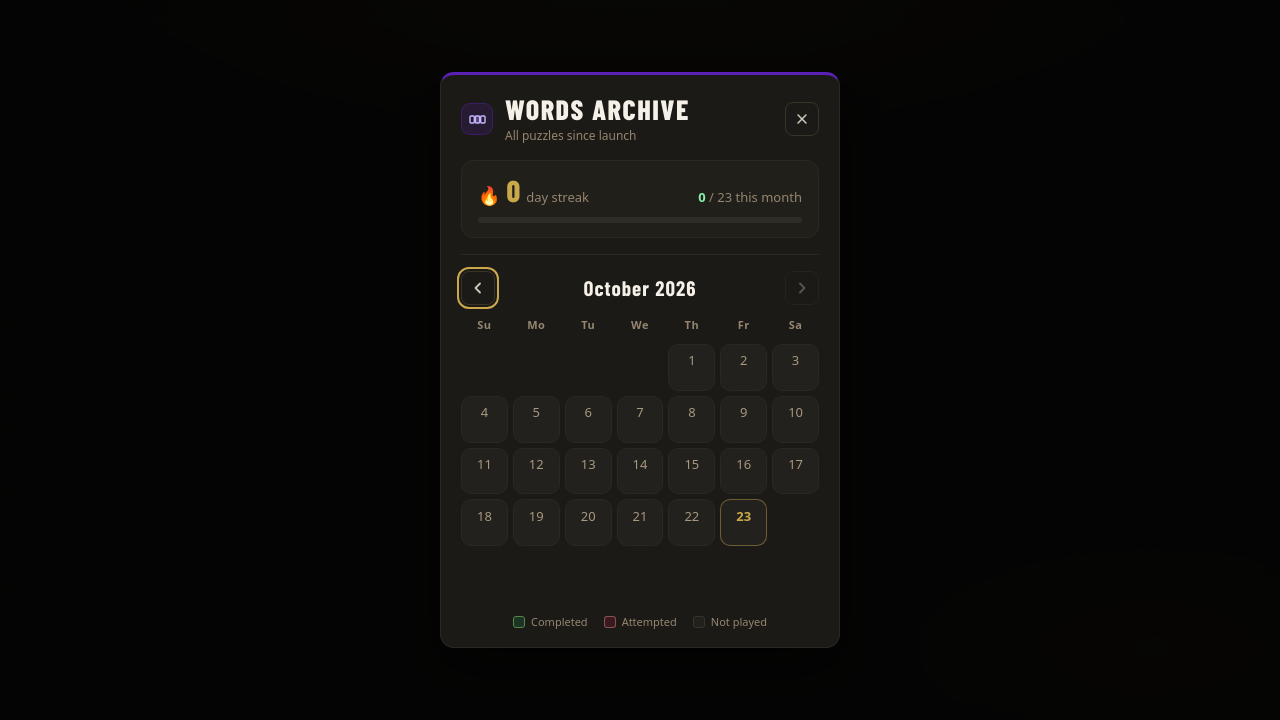
Test case: Archive calendar › leaves focus on the arrow that was pressed while it stays enabled
Click the button named "Previous month".
click(478, 288)  # box top-left (461, 271), bottom-right (495, 305)
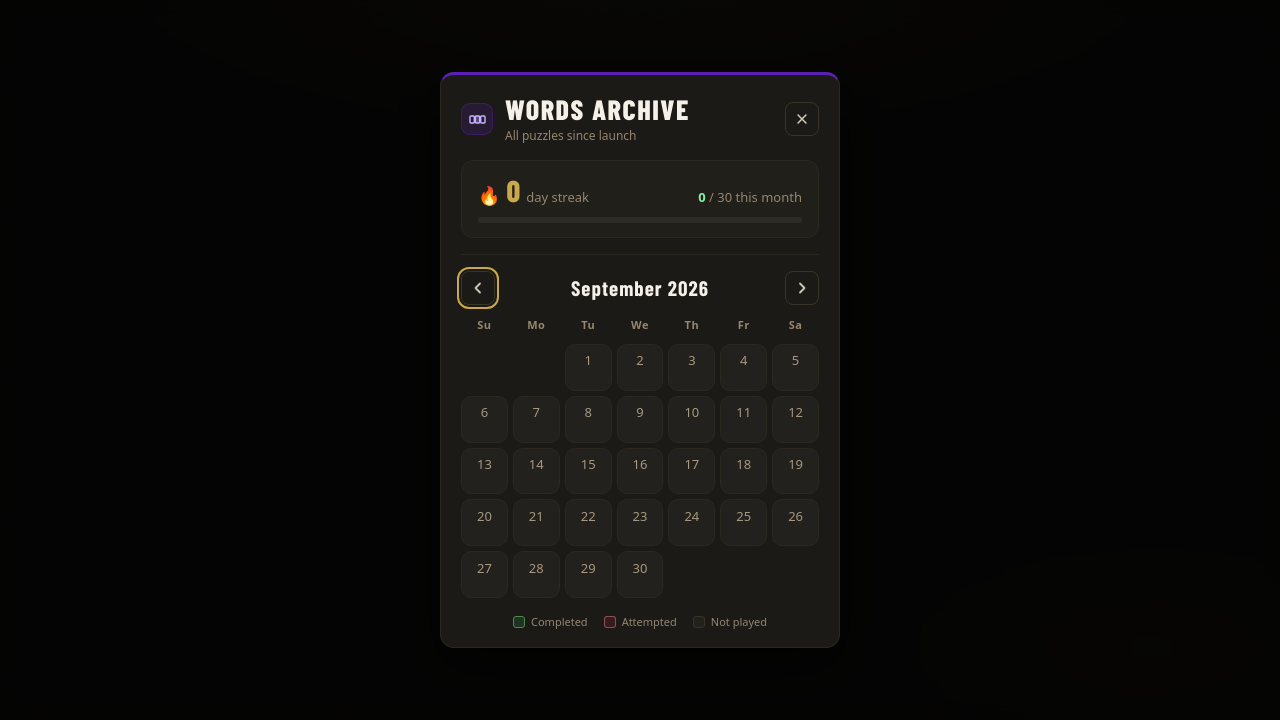
Result: the text with class "ar-month" reads "September 2026" at top-left (571, 275), bottom-right (709, 300)
Click the button named "Previous month".
click(478, 288)  # box top-left (461, 271), bottom-right (495, 305)
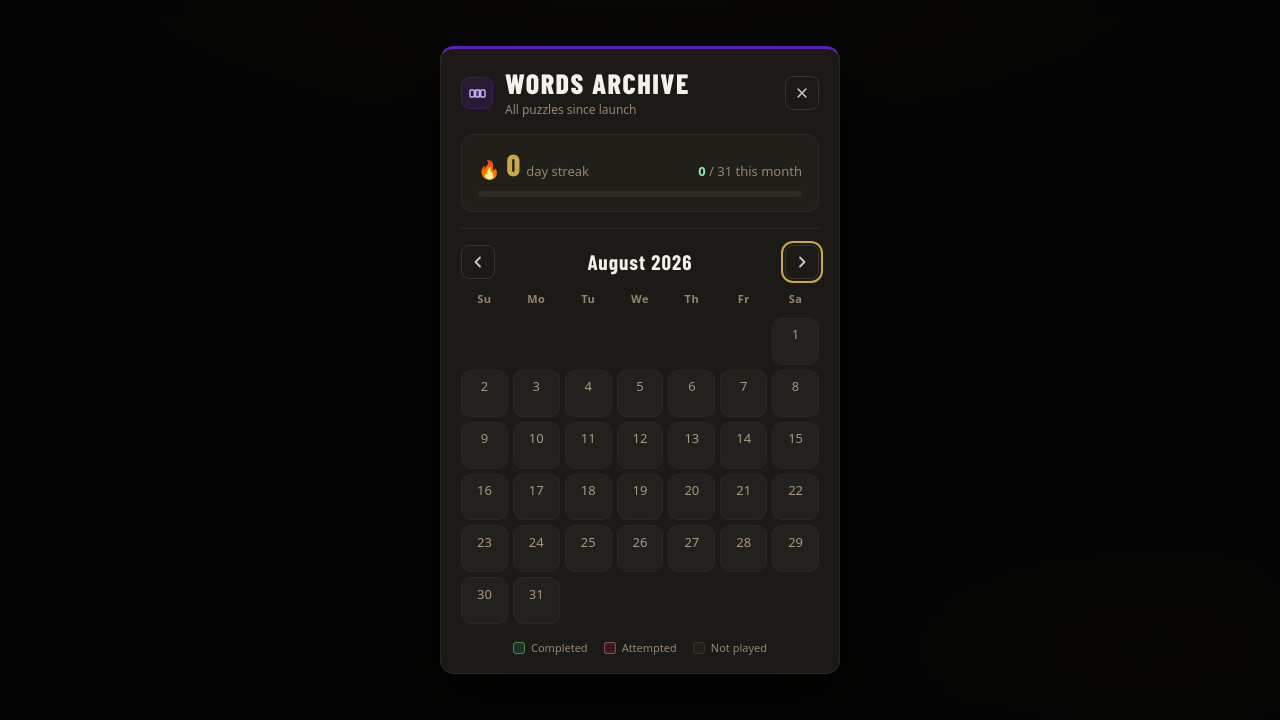
Result: the text with class "ar-month" reads "August 2026" at top-left (588, 249), bottom-right (692, 274)
Click the button named "Next month".
click(802, 262)  # box top-left (785, 245), bottom-right (819, 279)
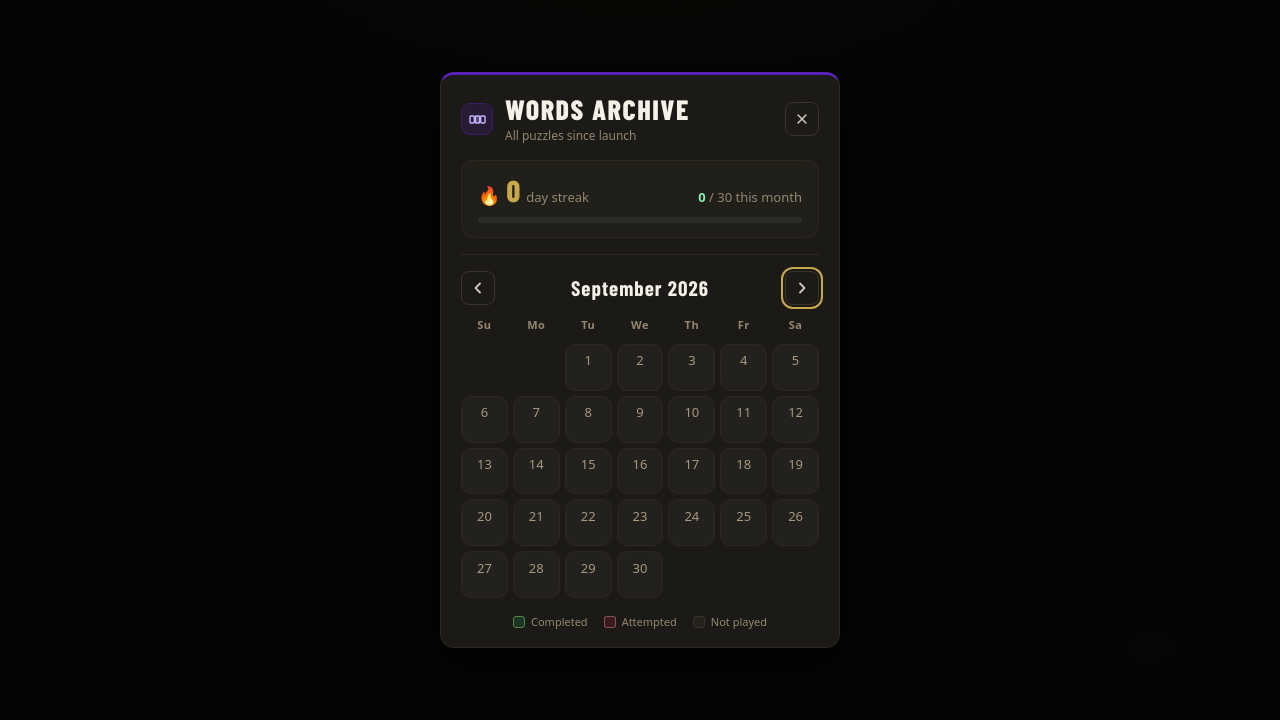
Result: the text with class "ar-month" reads "September 2026" at top-left (571, 275), bottom-right (709, 300)
